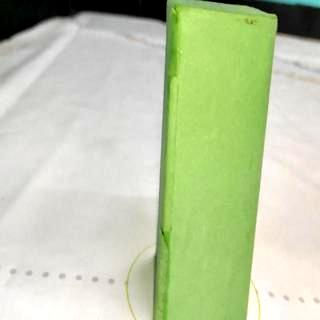greenbox: (154, 0, 278, 320)
